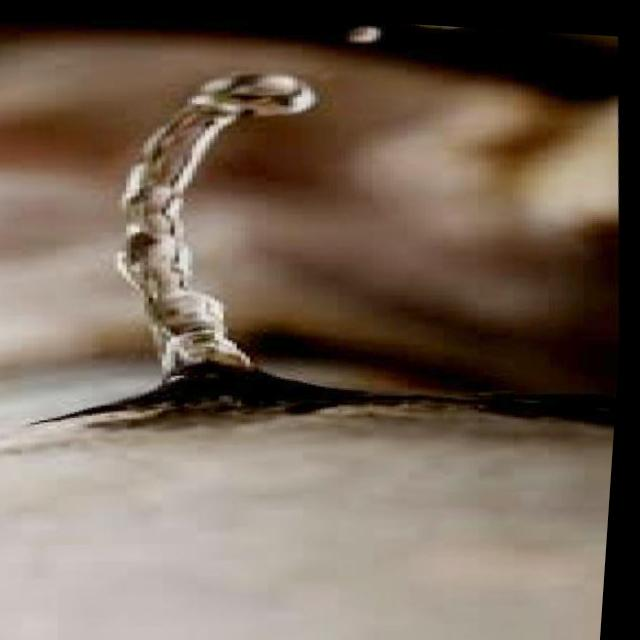leak: (16, 20, 456, 428)
